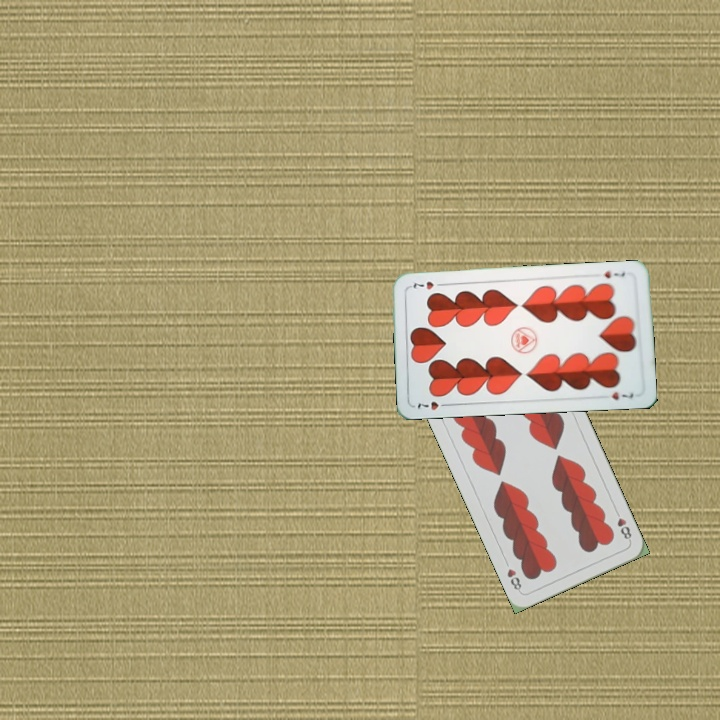H7: (413, 397, 452, 412), (599, 267, 627, 280)
H8: (611, 506, 634, 544)
